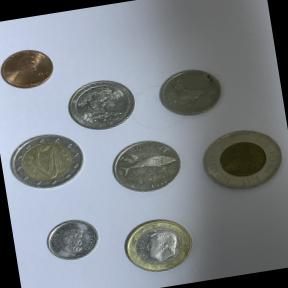1 Euro-B: (110, 204, 205, 280)
2 Euro-B: (0, 124, 90, 197)
Canada-10cent-B: (37, 208, 107, 268)
Canada-2Dollar-B: (190, 113, 288, 200)
Croatia-2Kune-B: (99, 126, 192, 202)
US-1cent-B: (0, 35, 66, 98)
US-25cent-B: (60, 70, 144, 136)
